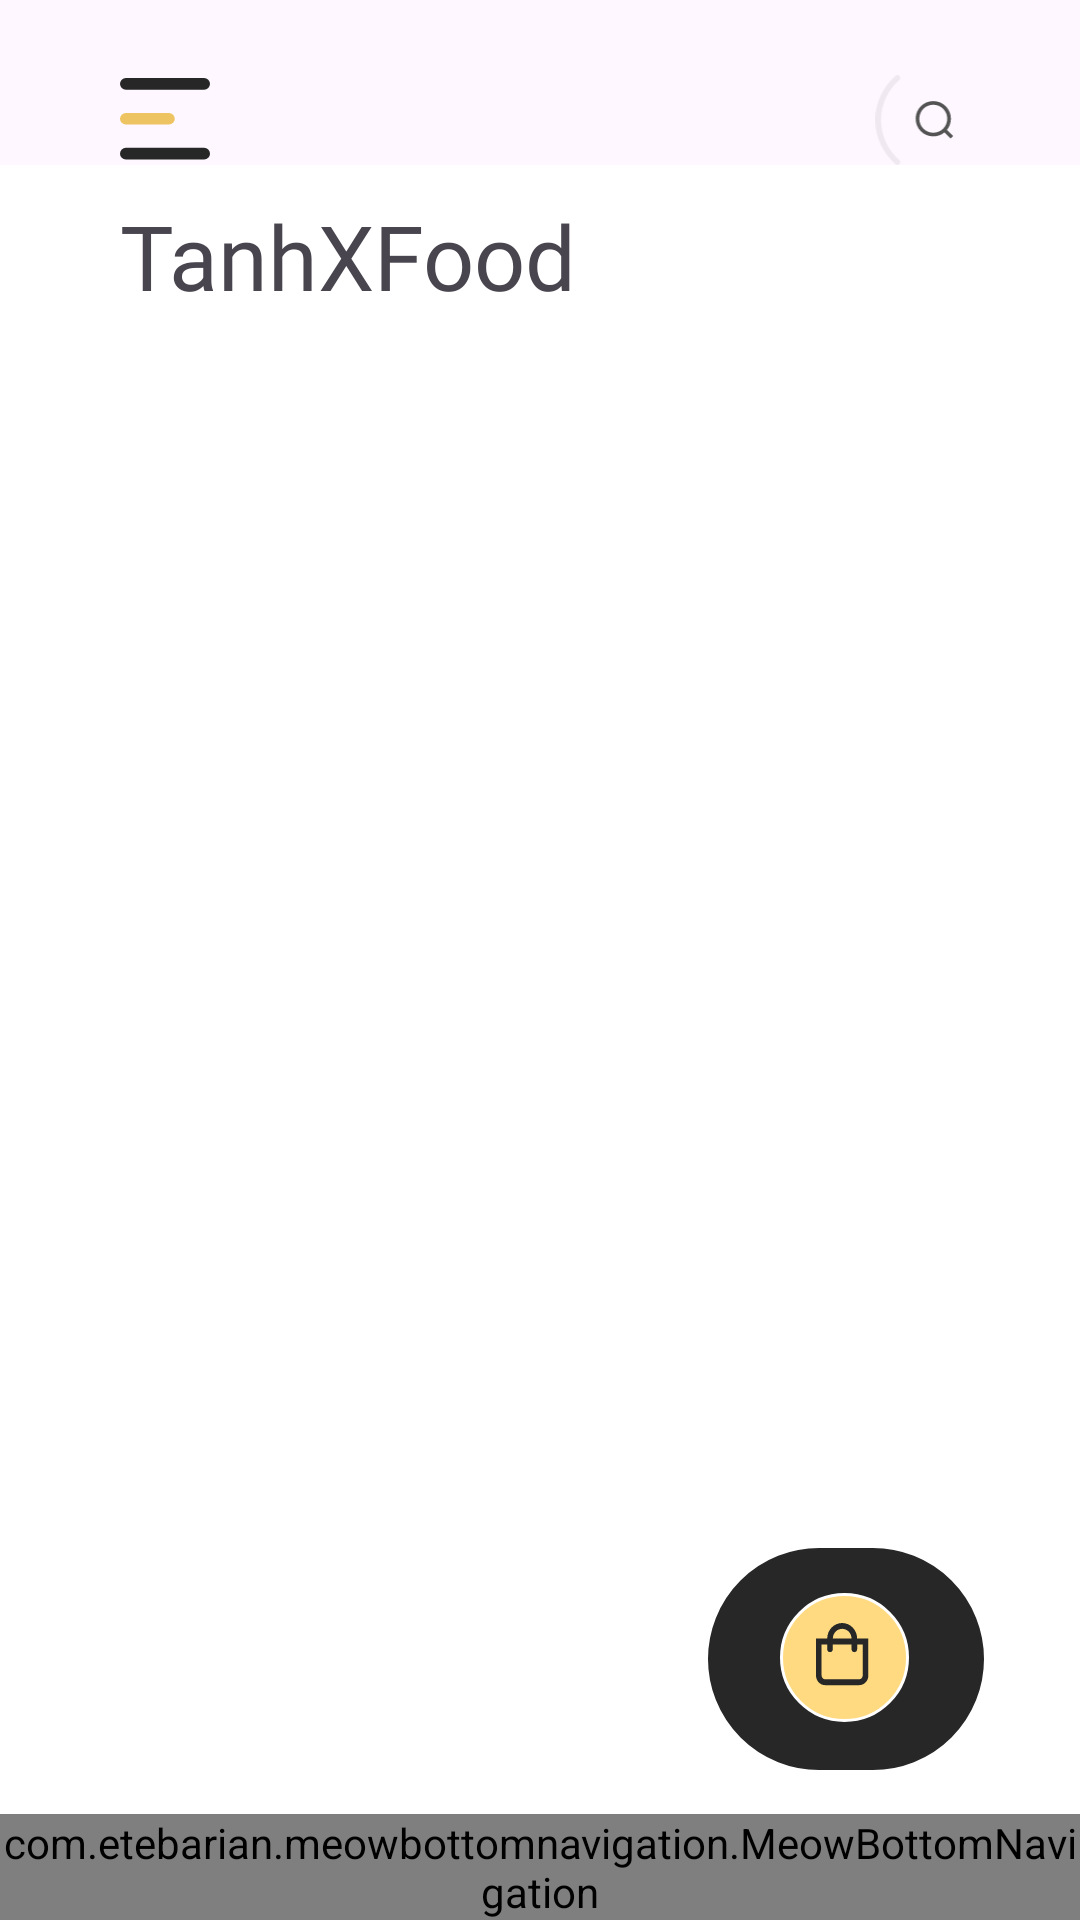

Point at icon controls on the screen. Image size 1080px×1920px, points as point (x, y).
find: point (934, 120)
menu: point (165, 119)
shoping: point (846, 1659)
